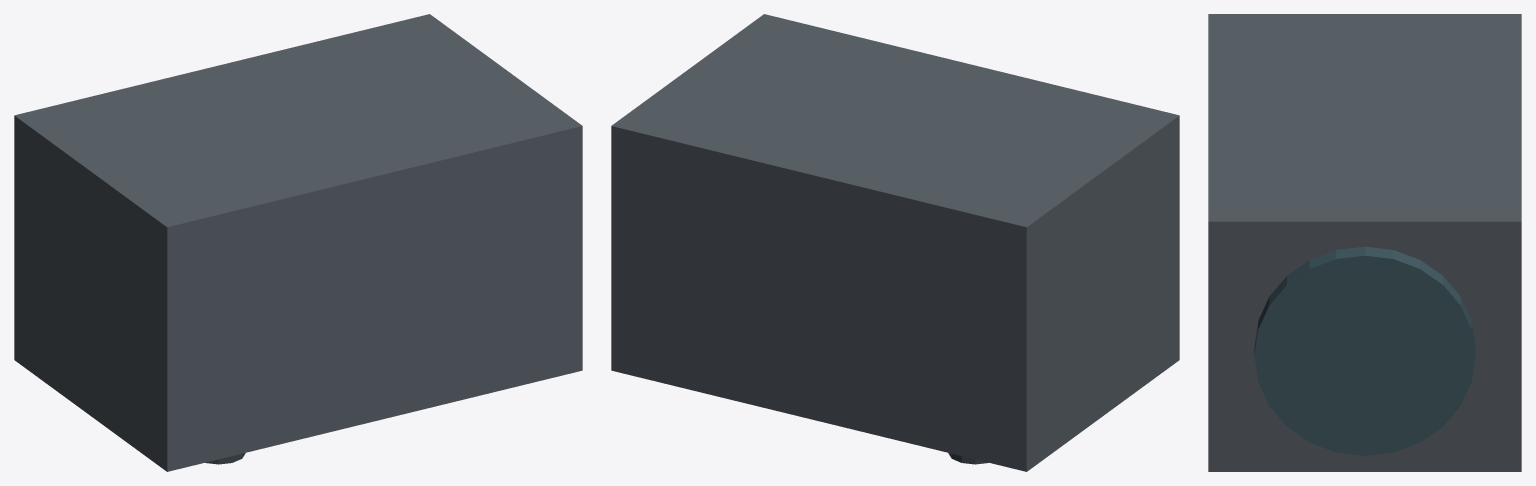
Rendered from GEN_SONAR_MINE_T4_LOD0.fbx.
3 renders of one model, left to right at view 1: azimuth 30°, elevation 25°; view 2: azimuth 150°, elevation 25°; view 3: azimuth 270°, elevation 25°, orthographic. The views are drawn at different scales.
Visible parts, largest first — view 1: SEN_GEN_SONAR_MINE_T4_LOD0; view 2: SEN_GEN_SONAR_MINE_T4_LOD0; view 3: SEN_GEN_SONAR_MINE_T4_LOD0.
Boxes of the visible parts, x1,y1,x2,y2 form: SEN_GEN_SONAR_MINE_T4_LOD0: (14, 14, 582, 471); SEN_GEN_SONAR_MINE_T4_LOD0: (611, 14, 1179, 471); SEN_GEN_SONAR_MINE_T4_LOD0: (1208, 14, 1521, 471).
Bounding box in the file's own units: 1.67 × 1.02 × 0.99.
